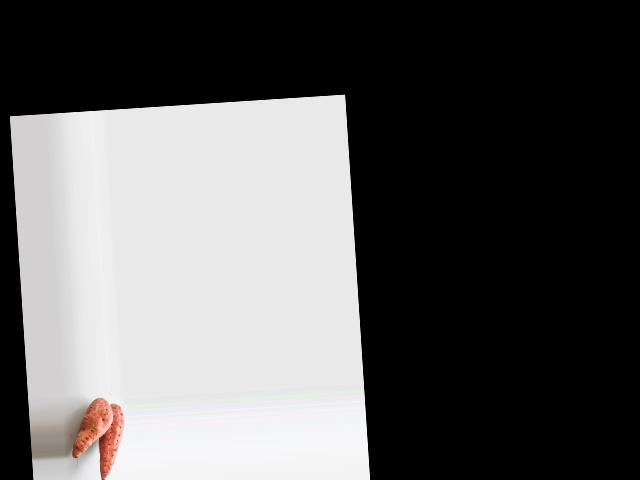sweet_potato: (95, 403, 126, 475)
